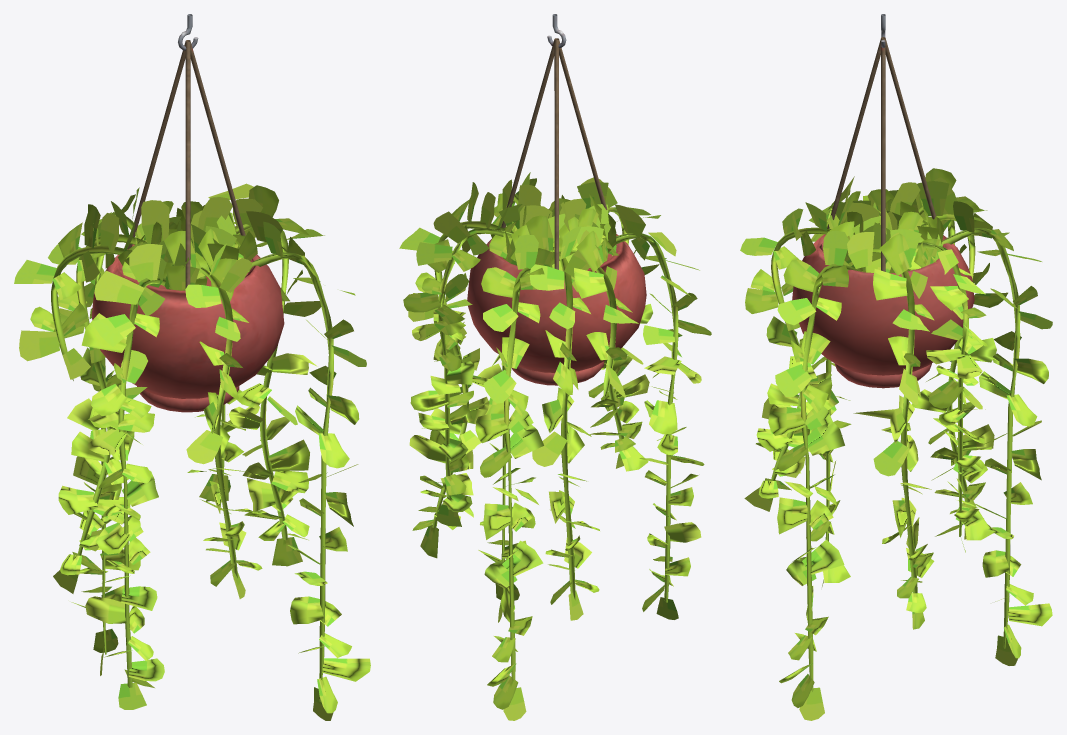
Rendered from SM_FallingPlant.fbx.
The picture shows the model from 3 angles, left to right: view 1: azimuth 30°, elevation 25°; view 2: azimuth 150°, elevation 25°; view 3: azimuth 270°, elevation 25°; orthographic projection. The views are drawn at different scales.
Parts seen in each view (by area): view 1: SM_FallingPlant_LOD0; view 2: SM_FallingPlant_LOD0; view 3: SM_FallingPlant_LOD0.
Boxes of the visible parts, x1,y1,x2,y2 form: SM_FallingPlant_LOD0: (14,14,370,720); SM_FallingPlant_LOD0: (399,14,711,720); SM_FallingPlant_LOD0: (740,14,1052,720).
Size of the model in its own units: 47.76 by 49.5 by 116.
Materials: 2 (2 with a texture image).
